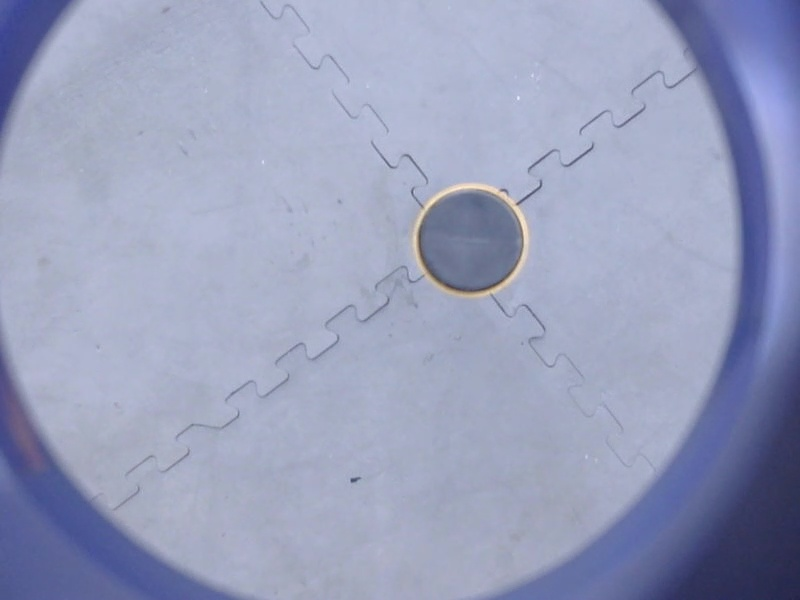tip: (405, 177, 534, 303)
